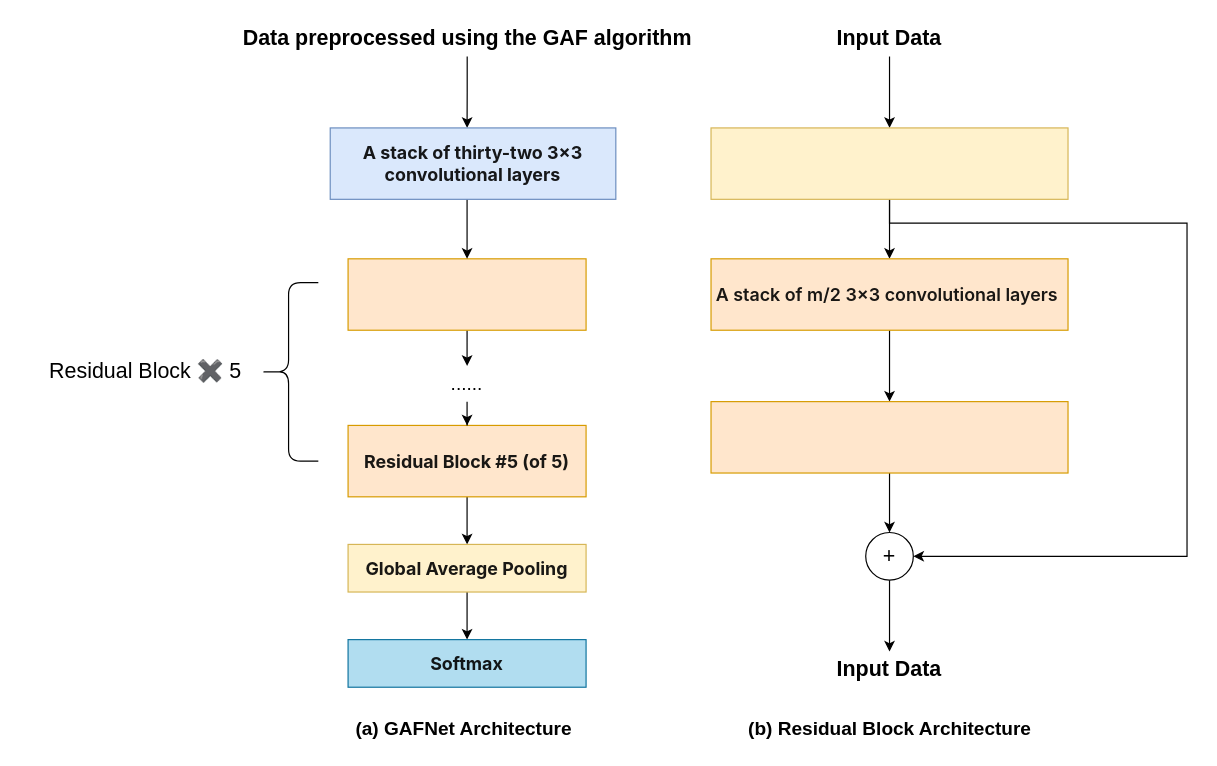
This 1217x766 diagram has some shape labels left out. Here are the shapes that lost their labels. From the top down, the centre of each, then its label:
At pixel 889 163: "A stack of m 3×3 convolutional layers with stride 2".
At pixel 466 294: "Residual Block #1 (of 5)".
At pixel 889 436: "A stack of m 3×3 convolutional layers".
